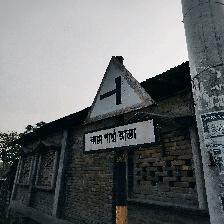Side-road-left: (82, 57, 158, 155)
